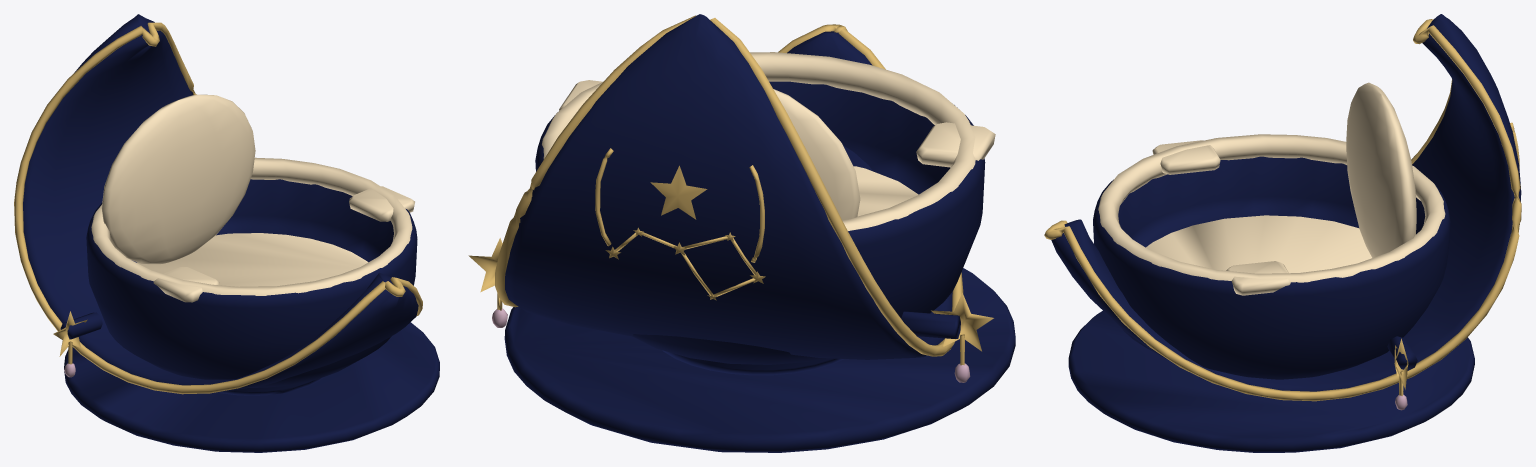
Rendered from kart.body.reverie.glb.
3 renders of one model, left to right at view 1: azimuth 30°, elevation 25°; view 2: azimuth 150°, elevation 25°; view 3: azimuth 270°, elevation 25°, orthographic. The views are drawn at different scales.
Parts seen in each view (by area): view 1: emi_vehicle_reverie; view 2: emi_vehicle_reverie; view 3: emi_vehicle_reverie.
Part boxes in pixels (<box>): emi_vehicle_reverie: <box>14,14,439,452</box>; emi_vehicle_reverie: <box>468,14,1015,452</box>; emi_vehicle_reverie: <box>1044,14,1521,452</box>.
Size of the model in its own units: 0.4362 by 0.375 by 0.48.
